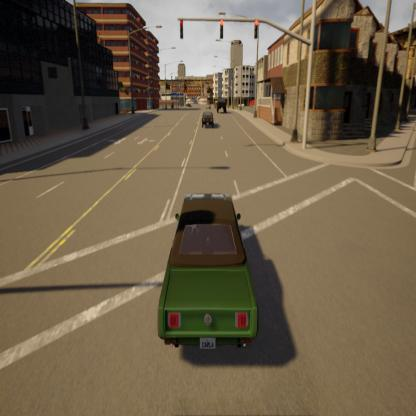Cars: (156, 192, 259, 354), (202, 108, 214, 129), (216, 94, 227, 116)
